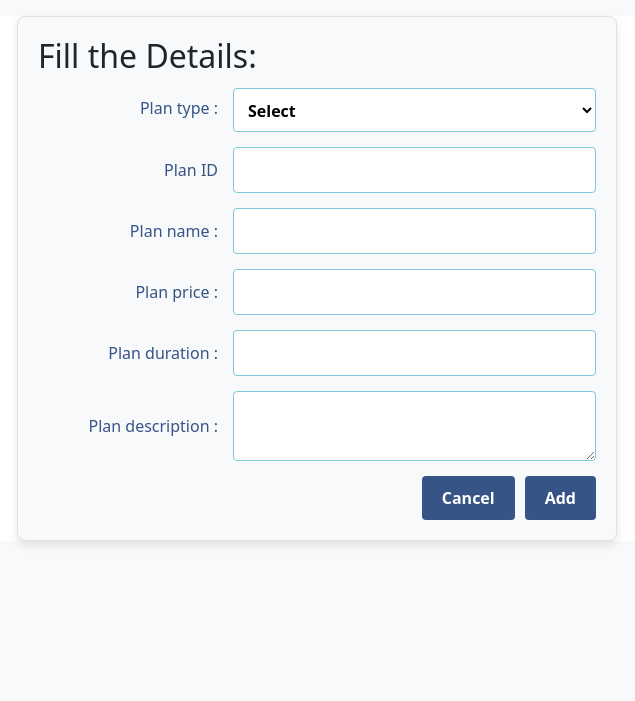
CreateServicePlan Component › displays submitted data after submission
In the field labelled "Plan ID": (414, 170) x1=233 y1=147 x2=596 y2=193, type "PREP-TC-0001"
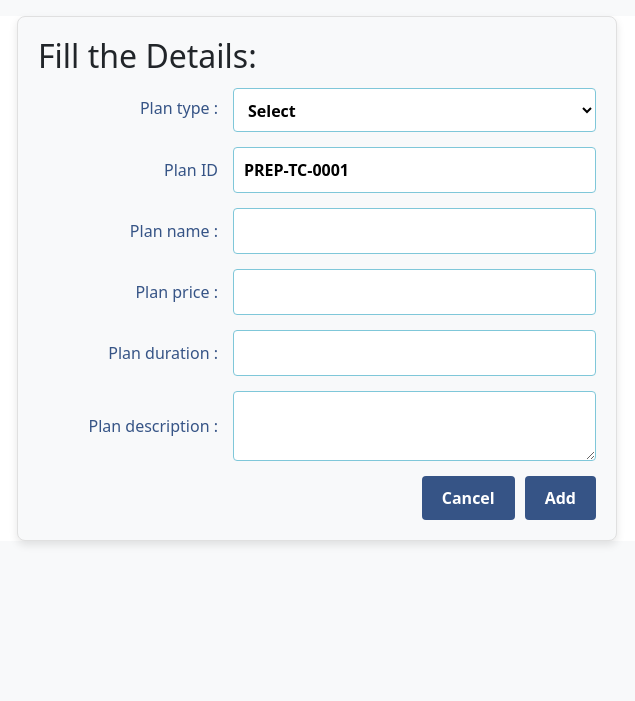
In the field labelled "Plan name :": (414, 231) x1=233 y1=208 x2=596 y2=254, type "Basic Plan"
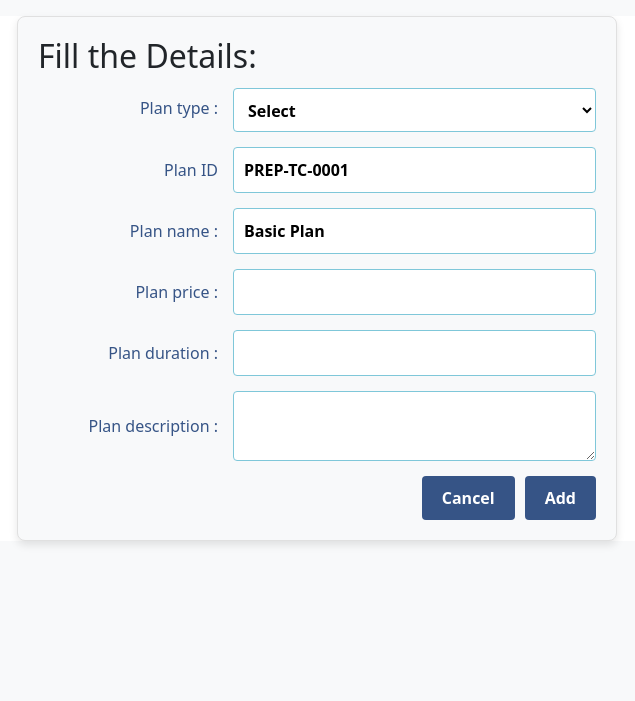
In the field labelled "Plan price :": (414, 292) x1=233 y1=269 x2=596 y2=315, type "10"
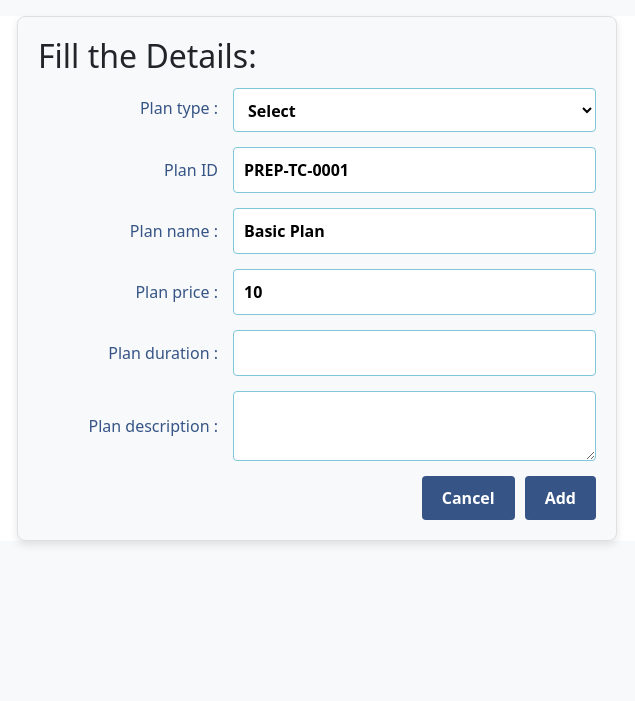
In the field labelled "Plan duration :": (414, 353) x1=233 y1=330 x2=596 y2=376, type "30 days"
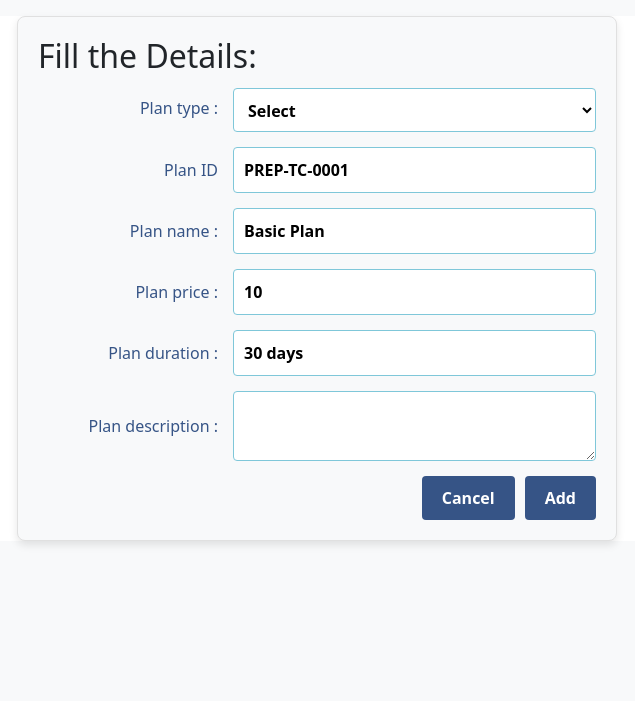
In the text box labelled "Plan description :": (414, 426) x1=233 y1=391 x2=596 y2=461, type "A basic prepaid plan"
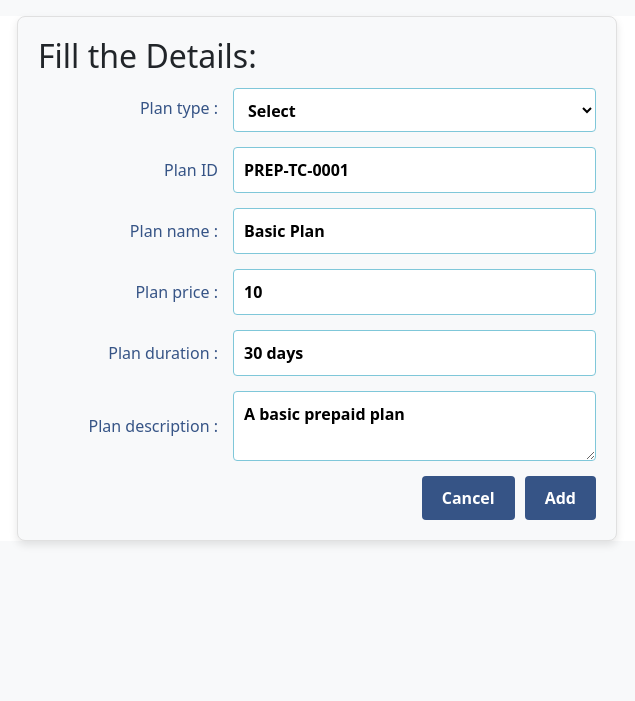
Click the button "Add": (560, 498) x1=525 y1=476 x2=596 y2=520
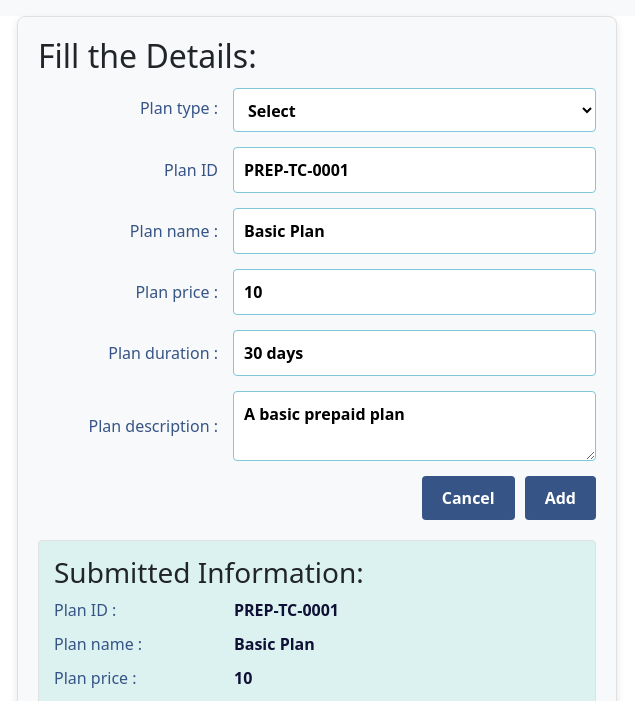
Expected: the heading "Submitted Information:" is shown, x1=54 y1=553 x2=364 y2=591
Expected: the text "PREP-TC-0001" is shown, x1=234 y1=599 x2=339 y2=621
Expected: the text "Basic Plan" is shown, x1=234 y1=633 x2=315 y2=655
